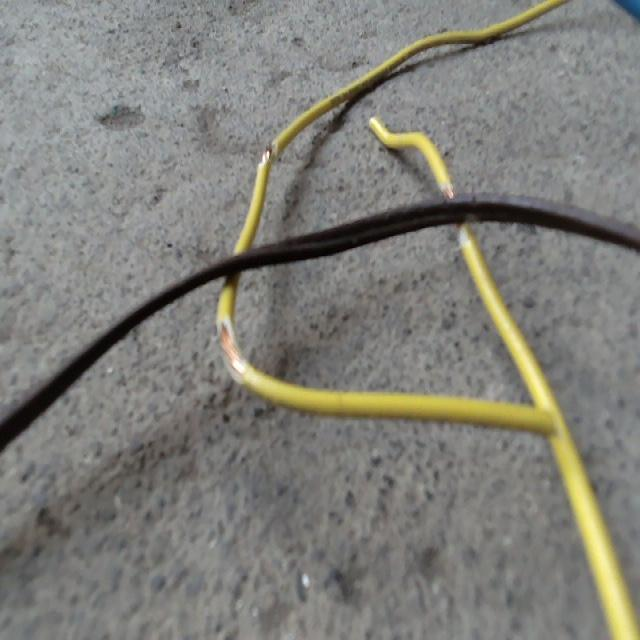-: (217, 318, 246, 382), (259, 139, 275, 165), (442, 184, 456, 201)
